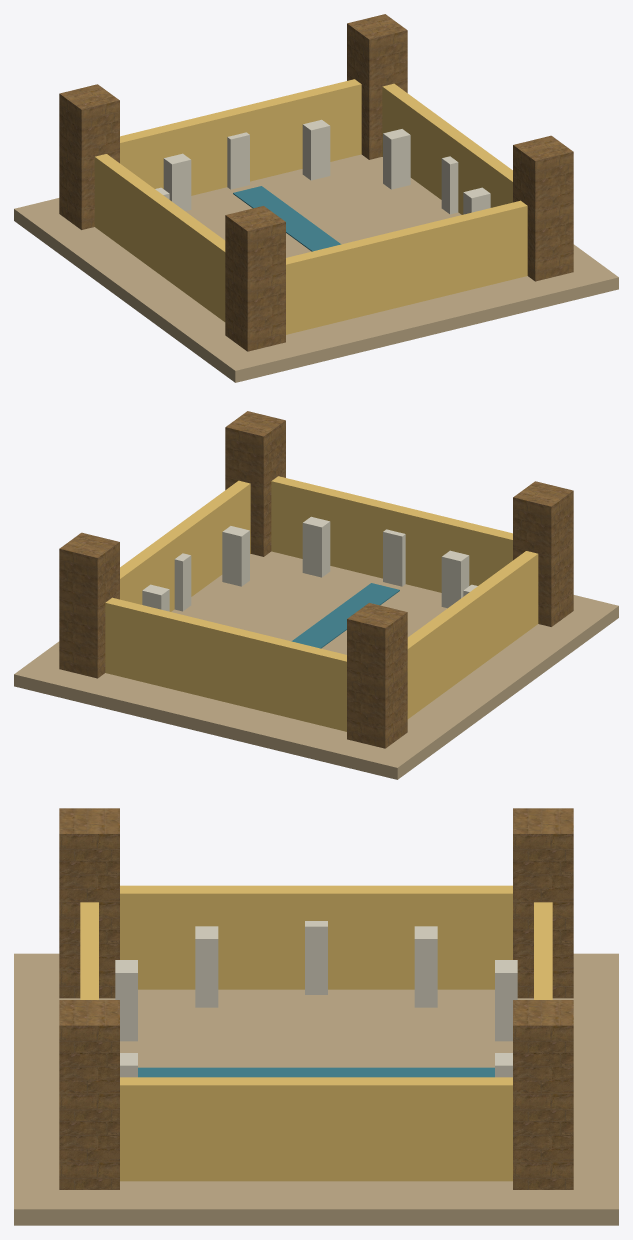
The model's file is nova_jerusalem.glb.
3 views of the same model, one above another, from view 1: azimuth 30°, elevation 25°; view 2: azimuth 150°, elevation 25°; view 3: azimuth 270°, elevation 25° (orthographic). The views are drawn at different scales.
Visible parts, largest first — view 1: Base ilustrativa, Muralha.003, Muralha.001, Muralha, Torre.001, Torre.003, Muralha.002, Torre, Torre.002, Rio simbólico, Porta simbólica.010, Porta simbólica.011 (+4 smaller); view 2: Base ilustrativa, Muralha.001, Muralha.003, Muralha, Torre, Torre.002, Muralha.002, Torre.001, Torre.003, Rio simbólico, Porta simbólica.002, Porta simbólica.001 (+4 smaller); view 3: Base ilustrativa, Muralha.002, Muralha, Torre.002, Torre.003, Torre, Torre.001, Rio simbólico, Porta simbólica.005, Porta simbólica.007, Muralha.001, Muralha.003 (+3 smaller).
Part boxes in pixels (left/top/right/bottom): Base ilustrativa: left=14, top=154, right=618, bottom=382; Muralha.003: left=286, top=200, right=527, bottom=334; Muralha.001: left=120, top=79, right=361, bottom=195; Muralha: left=94, top=154, right=225, bottom=321; Torre.001: left=225, top=206, right=285, bottom=351; Torre.003: left=513, top=135, right=573, bottom=281; Muralha.002: left=382, top=83, right=512, bottom=214; Torre: left=59, top=84, right=119, bottom=229; Torre.002: left=347, top=14, right=407, bottom=159; Rio simbólico: left=233, top=186, right=341, bottom=251; Porta simbólica.010: left=302, top=119, right=330, bottom=180; Porta simbólica.011: left=383, top=129, right=410, bottom=189; Base ilustrativa: left=14, top=551, right=618, bottom=779; Muralha.001: left=105, top=597, right=346, bottom=731; Muralha.003: left=271, top=476, right=512, bottom=592; Muralha: left=407, top=551, right=538, bottom=718; Torre: left=347, top=603, right=407, bottom=748; Torre.002: left=59, top=532, right=119, bottom=678; Muralha.002: left=120, top=480, right=250, bottom=611; Torre.001: left=513, top=481, right=573, bottom=626; Torre.003: left=225, top=411, right=285, bottom=556; Rio simbólico: left=291, top=583, right=399, bottom=648; Porta simbólica.002: left=302, top=516, right=330, bottom=577; Porta simbólica.001: left=222, top=526, right=249, bottom=586; Base ilustrativa: left=14, top=953, right=618, bottom=1225; Muralha.002: left=120, top=1077, right=512, bottom=1181; Muralha: left=120, top=885, right=512, bottom=989; Torre.002: left=513, top=1000, right=573, bottom=1189; Torre.003: left=59, top=1000, right=119, bottom=1189; Torre: left=513, top=808, right=573, bottom=998; Torre.001: left=59, top=808, right=119, bottom=998; Rio simbólico: left=138, top=1067, right=494, bottom=1077; Porta simbólica.005: left=195, top=926, right=218, bottom=1007; Porta simbólica.007: left=414, top=926, right=437, bottom=1007; Muralha.001: left=534, top=902, right=552, bottom=999; Muralha.003: left=80, top=902, right=98, bottom=999.
Bounding box in the file's own units: 8 × 2.64 × 8.
Materials: 5 (1 with a texture image).
